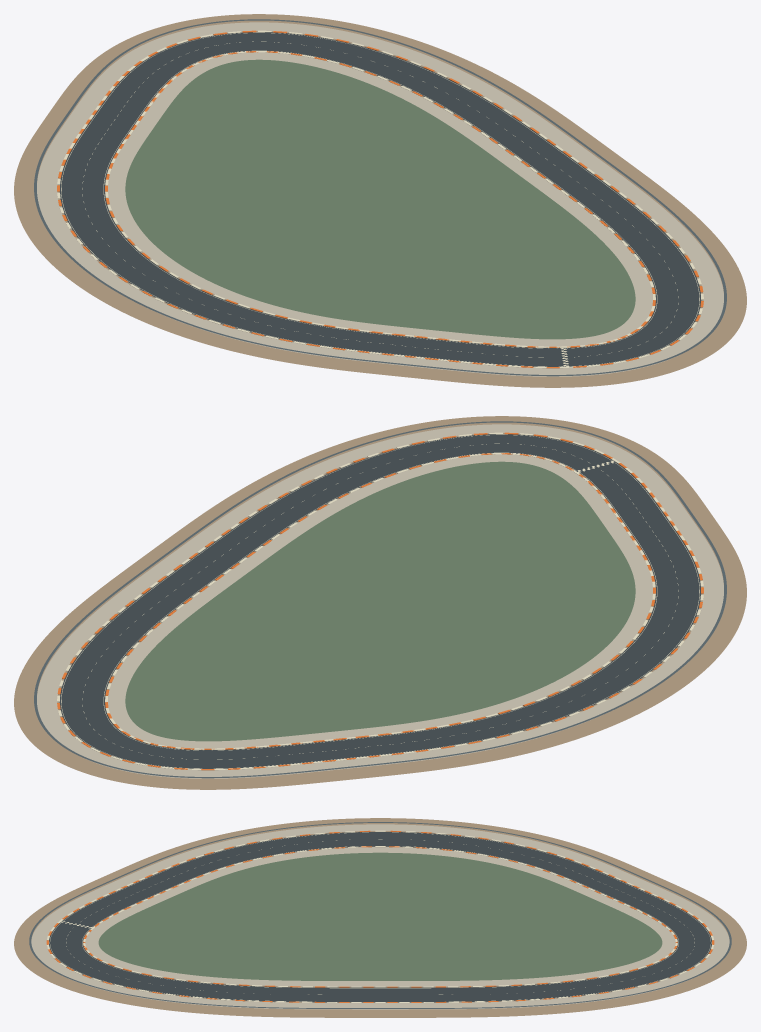
The model's file is marine-drive.glb.
3 views of the same model, one above another, from view 1: azimuth 30°, elevation 25°; view 2: azimuth 150°, elevation 25°; view 3: azimuth 270°, elevation 25° (orthographic). The views are drawn at different scales.
Visible parts, largest first — view 1: Inner_land_fill, Circuit_Road_16m, Inside_Infield, Coastal_land_platform, Outer_Promenade, Inner_Promenade, Outer_Basalt_Seawall, Road_Edge_L, Road_Edge_R; view 2: Inner_land_fill, Circuit_Road_16m, Inside_Infield, Coastal_land_platform, Outer_Promenade, Inner_Promenade, Outer_Basalt_Seawall, Road_Edge_L, Road_Edge_R; view 3: Inner_land_fill, Circuit_Road_16m, Inside_Infield, Coastal_land_platform, Outer_Promenade, Inner_Promenade, Outer_Basalt_Seawall, Road_Edge_L, Road_Edge_R.
Part boxes in pixels (x1,y1,x2,y2): Inner_land_fill: (126,59,634,315); Circuit_Road_16m: (59,32,701,366); Inside_Infield: (125,60,635,339); Coastal_land_platform: (14,14,746,387); Outer_Promenade: (37,22,723,376); Inner_Promenade: (108,52,652,346); Outer_Basalt_Seawall: (34,19,726,376); Road_Edge_L: (61,32,699,366); Road_Edge_R: (103,50,657,348); Inner_land_fill: (126,461,634,717); Circuit_Road_16m: (59,434,701,768); Inside_Infield: (125,462,635,741); Coastal_land_platform: (14,416,746,789); Outer_Promenade: (37,424,723,778); Inner_Promenade: (108,454,652,748); Outer_Basalt_Seawall: (34,421,726,778); Road_Edge_L: (61,434,699,768); Road_Edge_R: (103,452,657,750); Inner_land_fill: (99,852,661,962); Circuit_Road_16m: (49,832,711,1002); Inside_Infield: (98,853,662,980); Coastal_land_platform: (14,818,746,1017); Outer_Promenade: (31,824,729,1009); Inner_Promenade: (85,847,675,986); Outer_Basalt_Seawall: (29,822,731,1008); Road_Edge_L: (49,832,711,1001); Road_Edge_R: (82,846,678,988).
Size of what is drawn, in the model's own units: 218 by 2.55 by 338.
